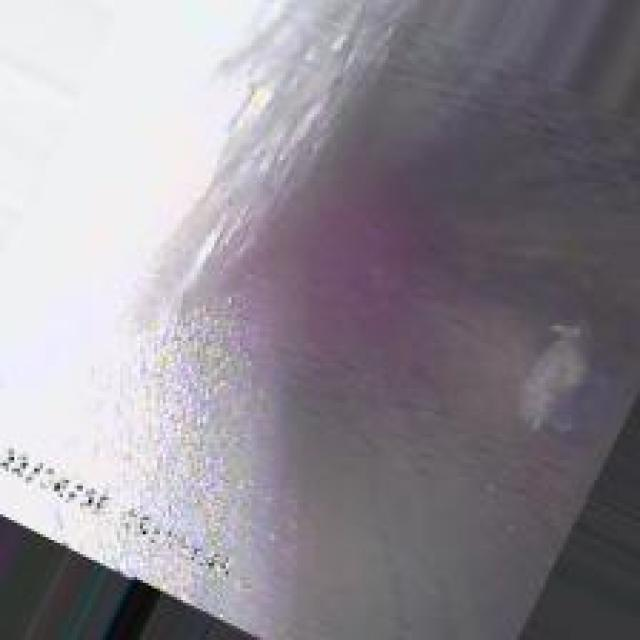ferrule: (509, 308, 594, 426)
